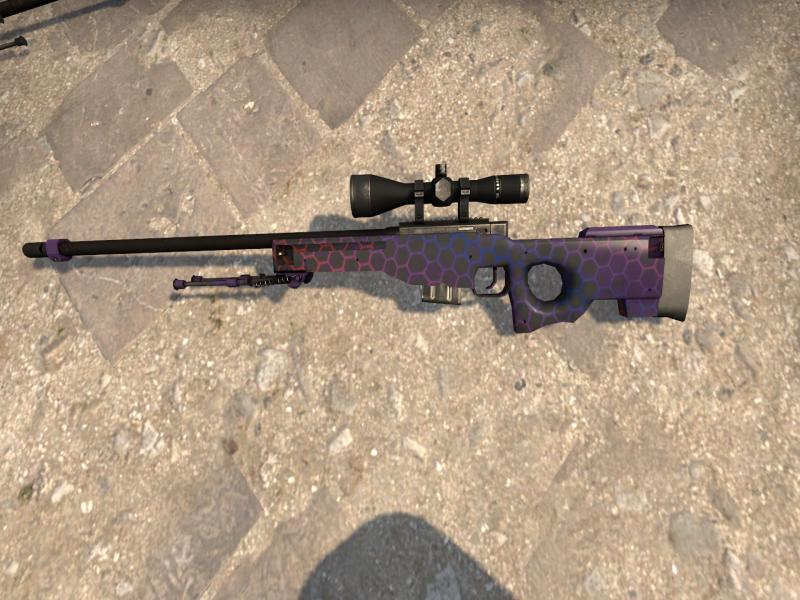AWP: (21, 163, 695, 333)
